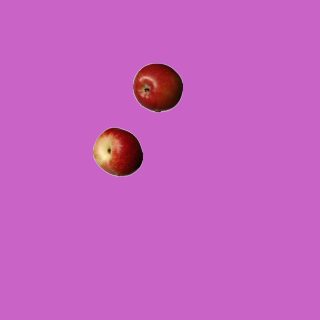Apple Braeburn: (132, 62, 182, 112)
Nectarine: (92, 126, 142, 176)
